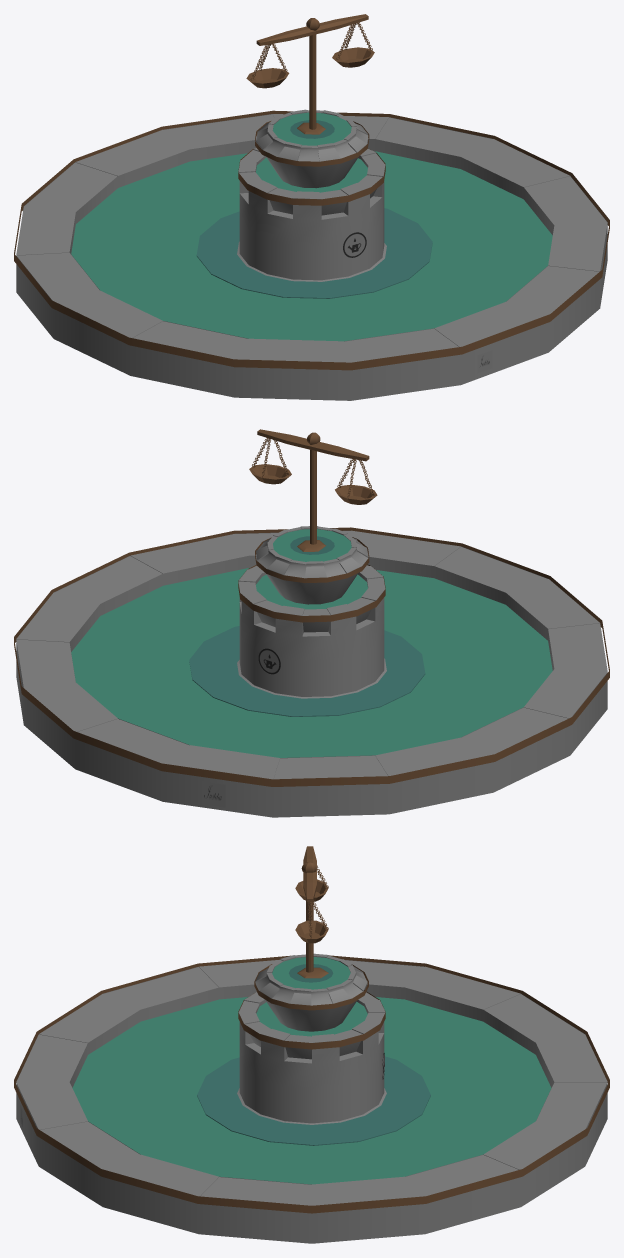
Rendered from 1fuente_justicia_equilibrada.fbx.
3 renders of one model, top to bottom at view 1: azimuth 30°, elevation 25°; view 2: azimuth 150°, elevation 25°; view 3: azimuth 270°, elevation 25°, orthographic.
Visible parts, largest first — view 1: fuente.004, fuente.002; view 2: fuente.004, fuente.002, Plane.002; view 3: fuente.004, fuente.002.
Boxes of the visible parts, <box> form: fuente.004: <box>14,14,609,400</box>; fuente.002: <box>71,112,552,341</box>; fuente.004: <box>14,429,609,817</box>; fuente.002: <box>71,529,552,757</box>; Plane.002: <box>201,781,225,807</box>; fuente.004: <box>14,846,609,1243</box>; fuente.002: <box>72,957,551,1184</box>.
Size of the model in its own units: 201 by 96.16 by 201.
Materials: 8 (2 with a texture image).
